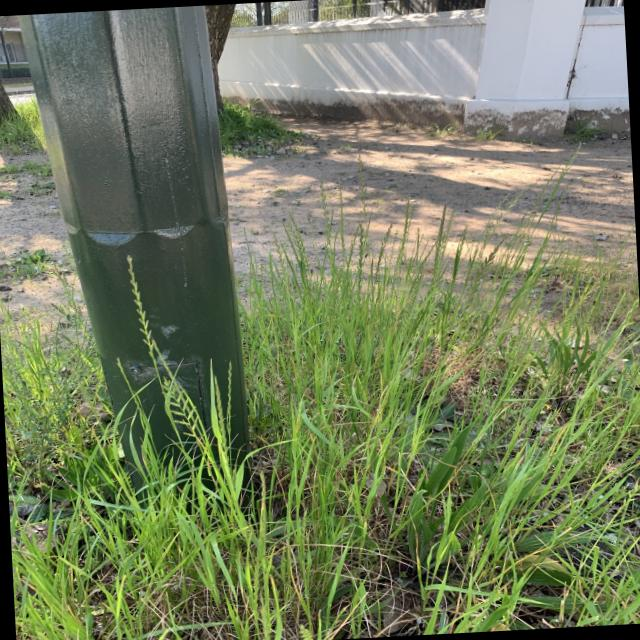Lolium: (532, 272, 608, 354), (473, 180, 545, 266), (449, 237, 512, 332), (119, 254, 160, 360), (154, 364, 202, 442), (521, 161, 566, 228), (116, 358, 150, 435), (428, 203, 452, 289), (398, 270, 428, 335), (480, 192, 512, 250), (289, 211, 312, 290), (286, 222, 310, 292), (502, 210, 530, 264), (214, 376, 230, 466), (242, 226, 260, 296), (396, 197, 414, 263), (273, 233, 290, 301), (373, 224, 396, 274), (353, 224, 368, 300), (450, 227, 470, 280), (344, 220, 364, 270), (616, 296, 640, 336), (558, 143, 584, 179), (224, 359, 236, 434), (320, 175, 332, 245), (432, 232, 448, 282), (282, 220, 300, 264), (532, 412, 553, 448), (328, 272, 346, 314), (357, 154, 367, 217), (360, 208, 374, 248), (422, 237, 442, 263), (546, 238, 566, 262), (407, 201, 420, 234), (246, 262, 254, 312), (388, 230, 400, 260), (414, 227, 422, 267), (446, 208, 457, 236), (338, 178, 344, 224), (312, 241, 321, 268), (259, 262, 265, 289), (268, 264, 275, 284)
